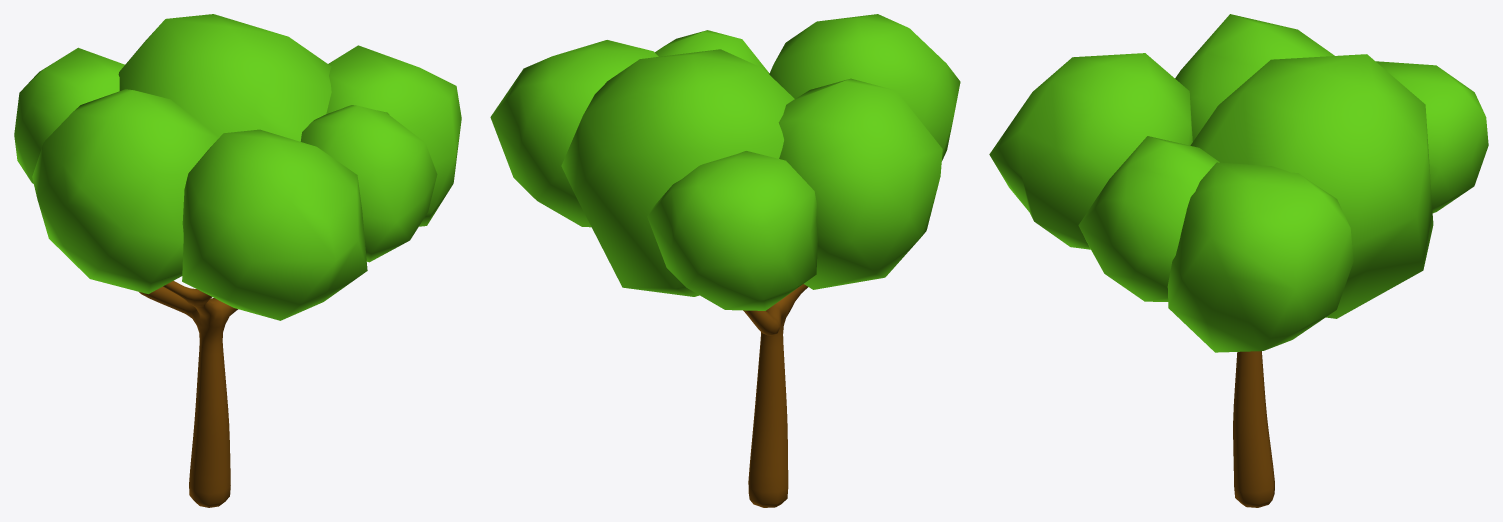
The model's file is RegularTree.dae.
3 views of the same model, side by side, from view 1: azimuth 30°, elevation 25°; view 2: azimuth 150°, elevation 25°; view 3: azimuth 270°, elevation 25° (orthographic). The views are drawn at different scales.
Visible parts, largest first — view 1: Plane; view 2: Plane; view 3: Plane.
Part boxes in pixels (<box>): Plane: <box>14,14,461,507</box>; Plane: <box>490,14,960,507</box>; Plane: <box>989,14,1488,507</box>.
Bounding box in the file's own units: 7.77 × 8.05 × 8.16.
Materials: 1 (1 with a texture image).
